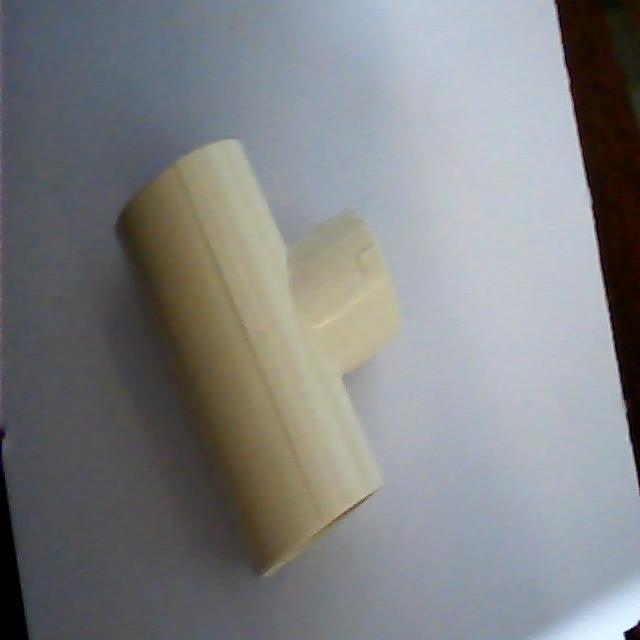Defective: (113, 139, 402, 581)
